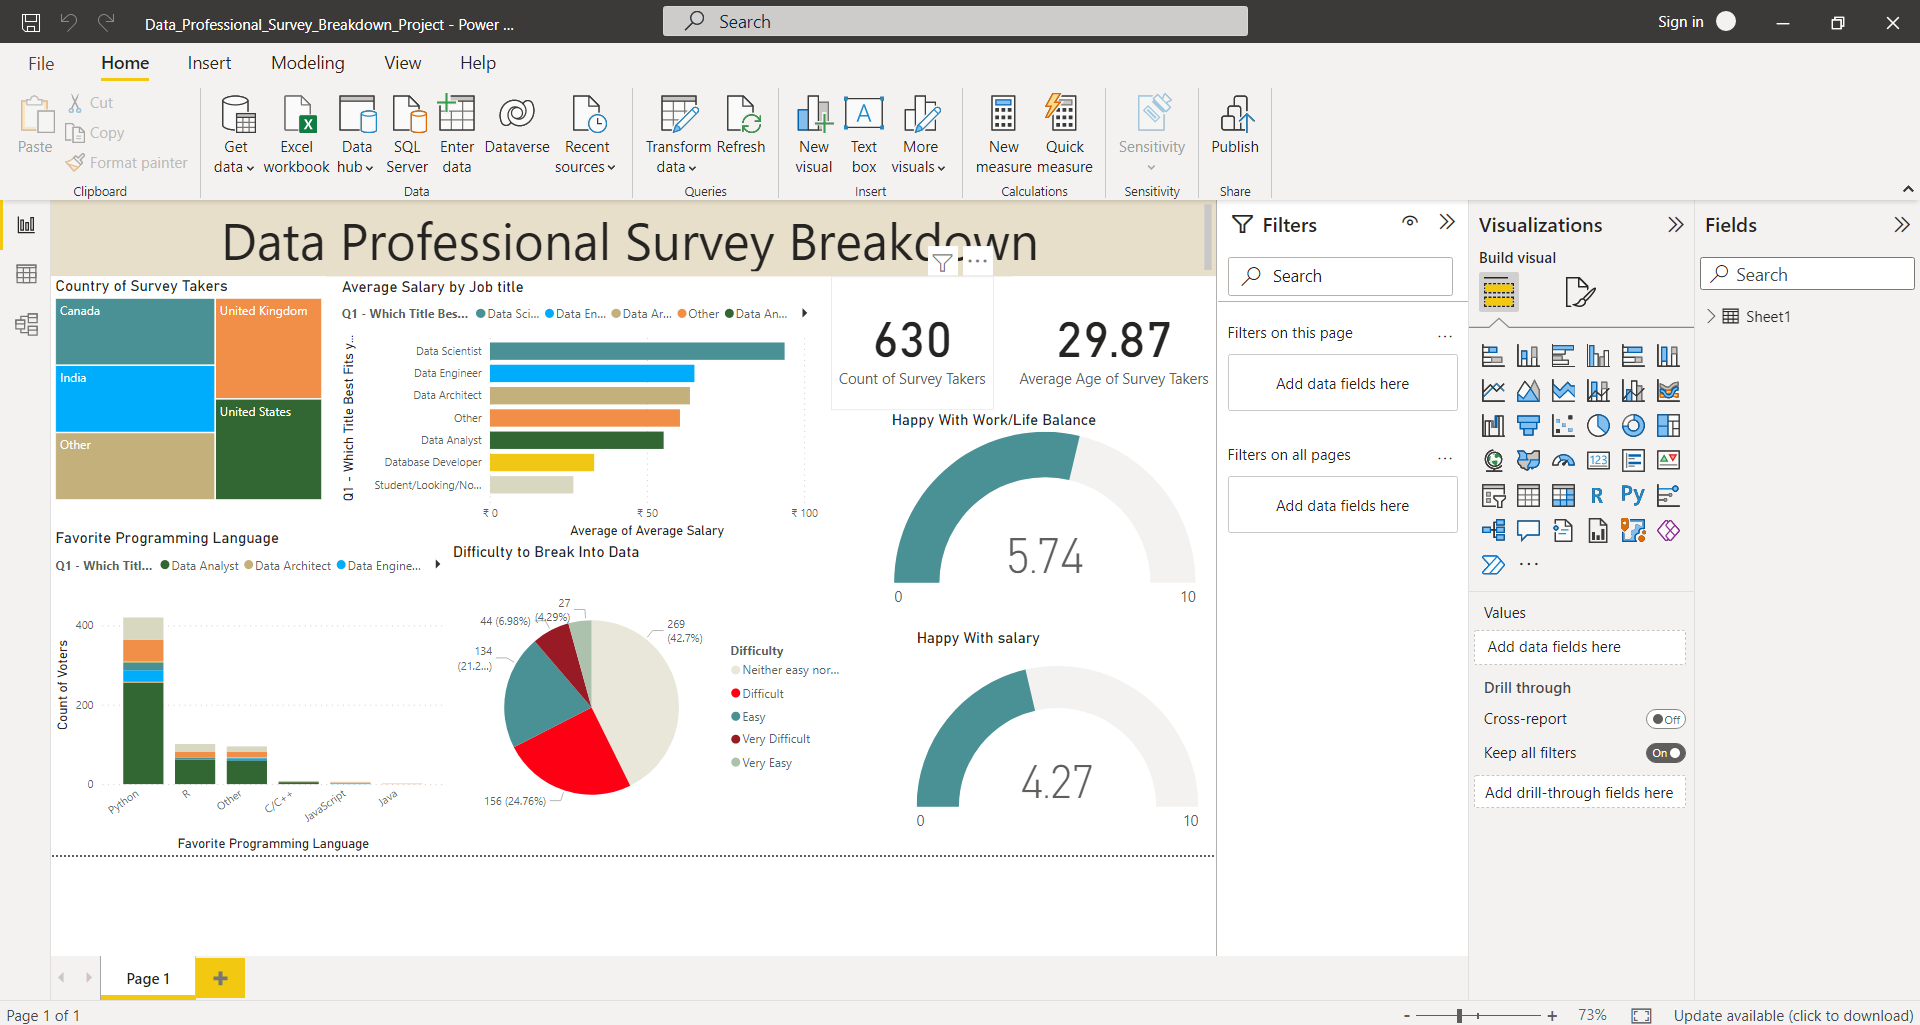

This screenshot's page, from the dashboard's own definition file:
{"tool":"powerbi","page":{"name":"Page 1","canvas":[1280,720],"ordinal":0},"visuals":[{"type":"textbox","box":[0,0,1280,83.8],"z":0},{"type":"card","fields":{"Values":["Count(Sheet1.Unique ID)"]},"box":[857.1,83.4,178.2,147.1],"z":1000},{"type":"card","fields":{"Values":["Avg(Sheet1.Q10 - Current Age)"]},"box":[1056.5,83.4,223.5,147.1],"z":2000},{"type":"barChart","title":"Average Salary by Job title","fields":{"Category":["Sheet1.Q1 - Which Title Best Fits your Current Role?.1"],"Series":["Sheet1.Q1 - Which Title Best Fits your Current Role?.1"],"Y":["Avg(Sheet1.Average Salary)"]},"box":[314,84.9,533.2,291.4],"z":3000},{"type":"columnChart","title":"Favorite Programming Language","fields":{"Category":["Sheet1.Q5 - Favorite Programming Language.1"],"Y":["CountNonNull(Sheet1.Unique ID)"],"Series":["Sheet1.Q1 - Which Title Best Fits your Current Role?.1"]},"box":[0,360.7,437,359.2],"z":4000},{"type":"treemap","title":"Country of Survey Takers","fields":{"Group":["Sheet1.Q11 - Which Country do you live in?.1"],"Values":["Count(Sheet1.Q11 - Which Country do you live in?.1)"]},"box":[0,83.4,302.7,250.3],"z":5000},{"type":"gauge","title":"Happy With Work/Life Balance","fields":{"Y":["Avg(Sheet1.Q6 - How Happy are you in your Current Position with the following? (Work/Life Balance))"],"MinValue":["Min(Sheet1.Q6 - How Happy are you in your Current Position with the following? (Work/Life Balance))"],"MaxValue":["Max(Sheet1.Q6 - How Happy are you in your Current Position with the following? (Work/Life Balance))"]},"box":[919.3,230.5,346.5,226.3],"z":6000},{"type":"gauge","title":"Happy With salary","fields":{"Y":["Avg(Sheet1.Q6 - How Happy are you in your Current Position with the following? (Salary))"],"MinValue":["Min(Sheet1.Q6 - How Happy are you in your Current Position with the following? (Salary))"],"MaxValue":["Max(Sheet1.Q6 - How Happy are you in your Current Position with the following? (Salary))"]},"box":[946.2,471,319.6,248.9],"z":7000},{"type":"pieChart","title":"Difficulty to Break Into Data","fields":{"Category":["Sheet1.Q7 - How difficult was it for you to break into Data?"],"Y":["CountNonNull(Sheet1.Unique ID)"]},"box":[437,376.2,445.5,343.7],"z":8000}]}

Visuals, with their boxes on the page's 1280x720 design canvas (x1, y1, x2, y2). These are canvas units, not pixel positions in the 1920x1025 screenshot, which may show the page scaled, cropped or inside an application window:
textbox: {"left": 0, "top": 0, "right": 1280, "bottom": 84}
card - Count(Sheet1.Unique ID): {"left": 857, "top": 83, "right": 1035, "bottom": 230}
card - Avg(Sheet1.Q10 - Current Age): {"left": 1056, "top": 83, "right": 1280, "bottom": 230}
"Average Salary by Job title" barChart: {"left": 314, "top": 85, "right": 847, "bottom": 376}
"Favorite Programming Language" columnChart: {"left": 0, "top": 361, "right": 437, "bottom": 720}
"Country of Survey Takers" treemap: {"left": 0, "top": 83, "right": 303, "bottom": 334}
"Happy With Work/Life Balance" gauge: {"left": 919, "top": 230, "right": 1266, "bottom": 457}
"Happy With salary" gauge: {"left": 946, "top": 471, "right": 1266, "bottom": 720}
"Difficulty to Break Into Data" pieChart: {"left": 437, "top": 376, "right": 882, "bottom": 720}
